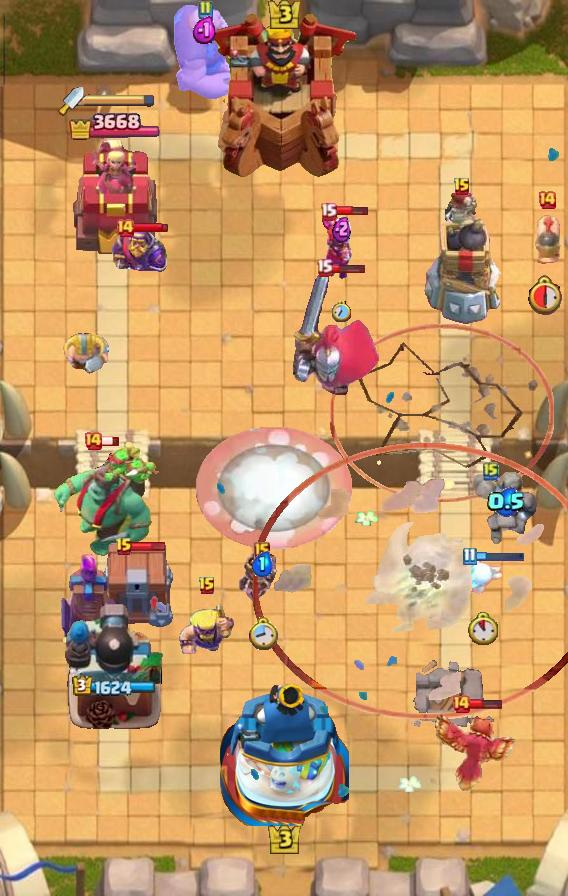arrows: (176, 599, 238, 655)
balloon: (171, 0, 239, 102)
bar: (70, 138, 158, 256)
bat: (458, 553, 508, 599)
bomb: (98, 543, 176, 629)
bomber-evolution: (237, 549, 288, 603)
electro-spirit: (486, 487, 525, 517), (192, 15, 218, 44), (251, 551, 273, 577), (333, 215, 352, 243)
elixir: (528, 273, 566, 315), (247, 615, 278, 649), (468, 612, 498, 644), (333, 301, 352, 322)
emote: (474, 550, 526, 563), (133, 222, 169, 234), (330, 262, 366, 274), (334, 205, 369, 217), (130, 540, 165, 552), (469, 698, 503, 710), (100, 435, 120, 447)
executioner: (531, 213, 563, 267)
firecracker-evolution: (111, 224, 167, 273)
goblin-giant: (62, 330, 110, 373)
golden-knight: (434, 709, 520, 791)
guard: (330, 325, 554, 504)
ice-spirit-evolution-symbol: (58, 554, 118, 646)
king-tower: (205, 11, 363, 181), (219, 678, 349, 826)
king-tower-bar: (84, 93, 156, 107)
lava-hound: (53, 440, 159, 558)
royal-ghost: (253, 443, 567, 719)
selected: (68, 109, 160, 145), (72, 675, 156, 697)
tesla-evolution: (319, 212, 363, 280)
text: (537, 190, 557, 210), (115, 218, 135, 238), (83, 431, 103, 451), (451, 694, 471, 714), (453, 177, 471, 197), (115, 537, 133, 557), (198, 576, 216, 596), (197, 0, 213, 20), (483, 461, 499, 481), (320, 203, 337, 221), (316, 259, 333, 277), (254, 542, 270, 560), (463, 547, 477, 566)
tower-bar: (64, 601, 164, 731)
valkyrie-evolution: (469, 469, 543, 551)
wall-breaker: (195, 427, 352, 549)
wall-breaker-evolution: (290, 267, 382, 401)
zappy: (418, 192, 505, 328)
